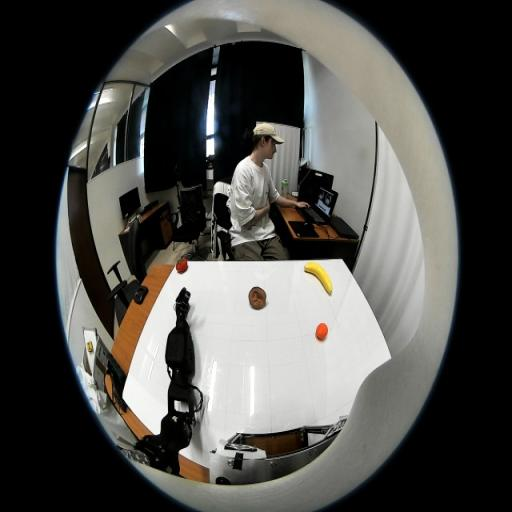Banana: (304, 261, 333, 293)
LeftHand: (176, 304, 186, 318)
Mushroom: (248, 285, 267, 309)
Orange: (316, 323, 328, 340)
Tomato: (176, 258, 187, 273)
